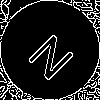N: (25, 25, 84, 84)
